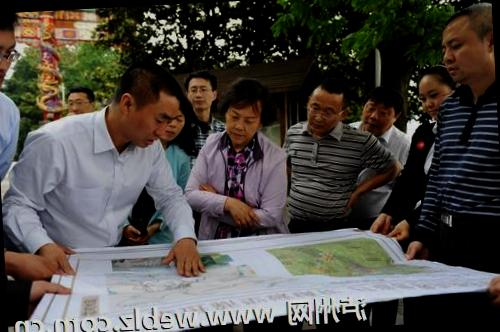no_helmet: (113, 58, 182, 146), (432, 10, 495, 81), (216, 78, 272, 148), (299, 67, 351, 135), (358, 82, 404, 134), (0, 12, 28, 96), (415, 64, 455, 118), (182, 65, 222, 118), (154, 99, 194, 146), (64, 82, 100, 116)
